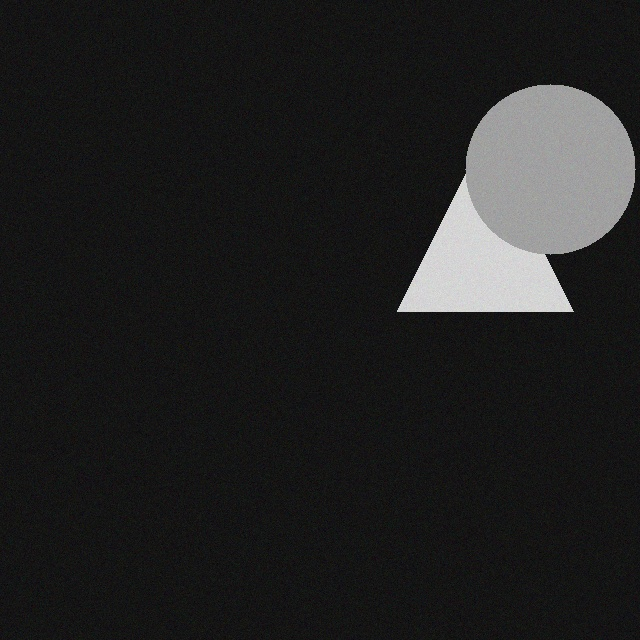circle: (457, 84, 627, 254)
triangle: (389, 135, 565, 311)
